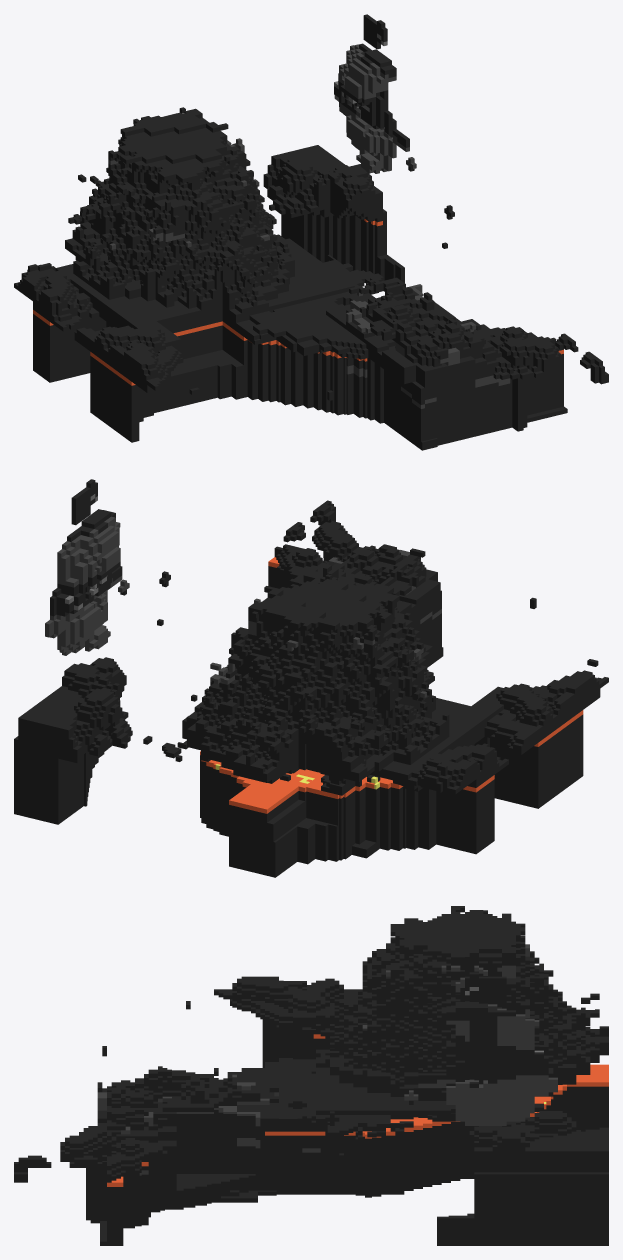
Rendered from Lava_stuff-24.obj.
The picture shows the model from 3 angles, top to bottom: view 1: azimuth 30°, elevation 25°; view 2: azimuth 150°, elevation 25°; view 3: azimuth 270°, elevation 25°; orthographic projection. The views are drawn at different scales.
Size of the model in its own units: 18.4 by 12.8 by 25.6.
Materials: 1 (1 with a texture image).
